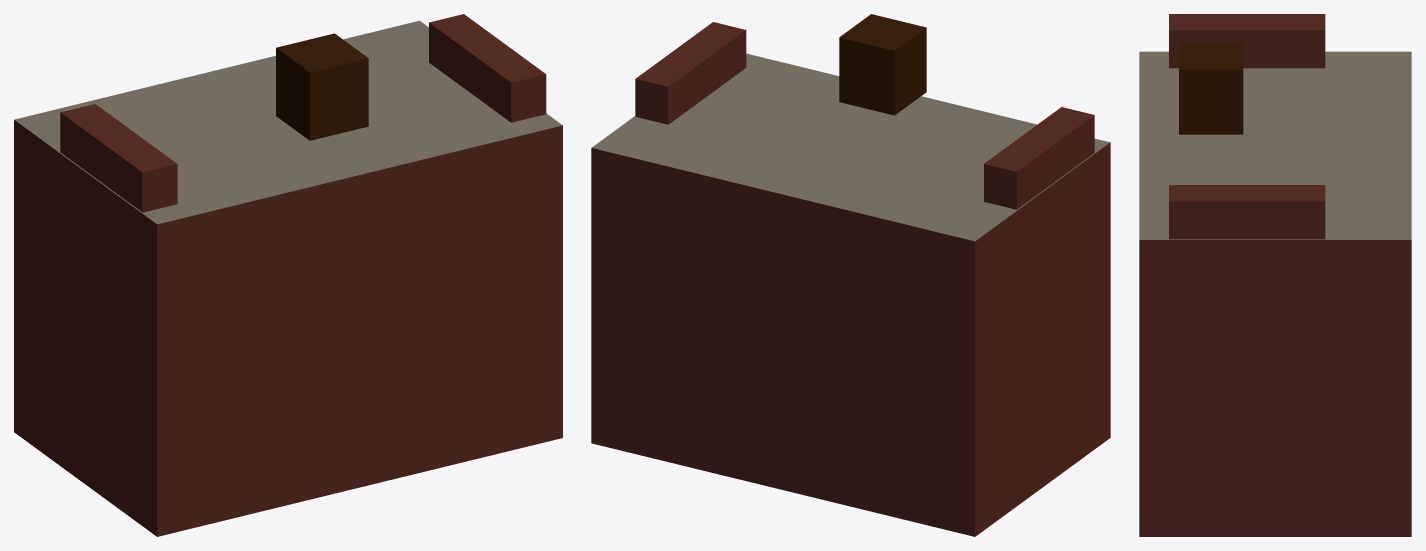
Rendered from mh-block-flats.towns-v1.lod2.glb.
The picture shows the model from 3 angles, left to right: view 1: azimuth 30°, elevation 25°; view 2: azimuth 150°, elevation 25°; view 3: azimuth 270°, elevation 25°; orthographic projection. The views are drawn at different scales.
Visible parts, largest first — view 1: mh-block-flats; view 2: mh-block-flats; view 3: mh-block-flats.
Boxes of the visible parts, x1,y1,x2,y2 form: mh-block-flats: (14, 14, 562, 536); mh-block-flats: (591, 14, 1110, 536); mh-block-flats: (1139, 14, 1411, 536).
Bounding box in the file's own units: 18 × 17.25 × 11.
